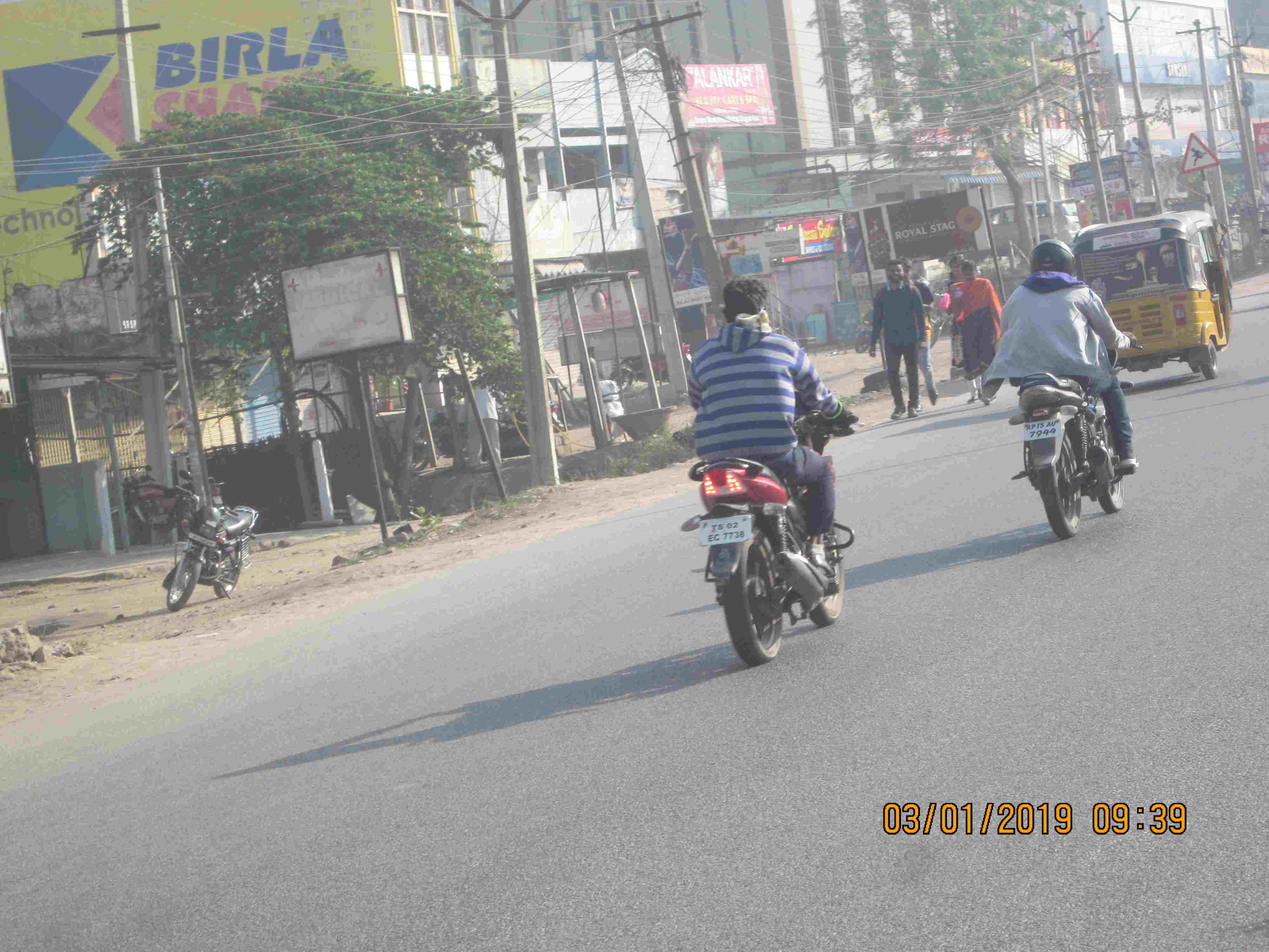plate: (694, 511, 758, 549), (1015, 414, 1068, 445)
